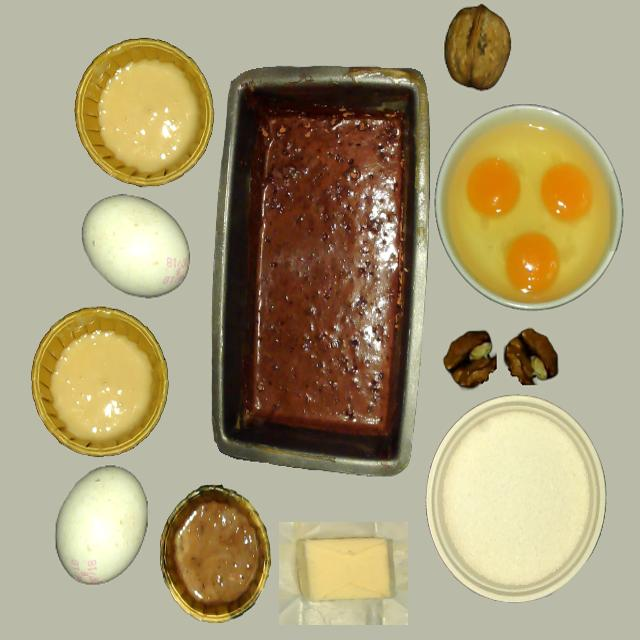Egg: (505, 232, 560, 294), (466, 157, 520, 218), (540, 163, 592, 222)
Sugar: (426, 393, 606, 600)
Walnut: (444, 3, 512, 91)
